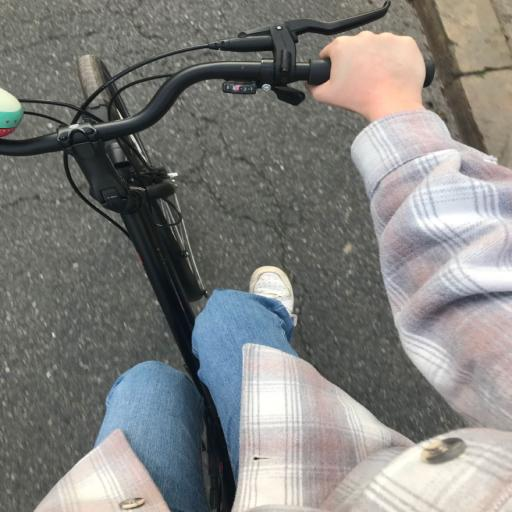bag: (0, 2, 390, 510)
construction_fence: (414, 0, 511, 166)
laptop: (193, 32, 511, 511)
